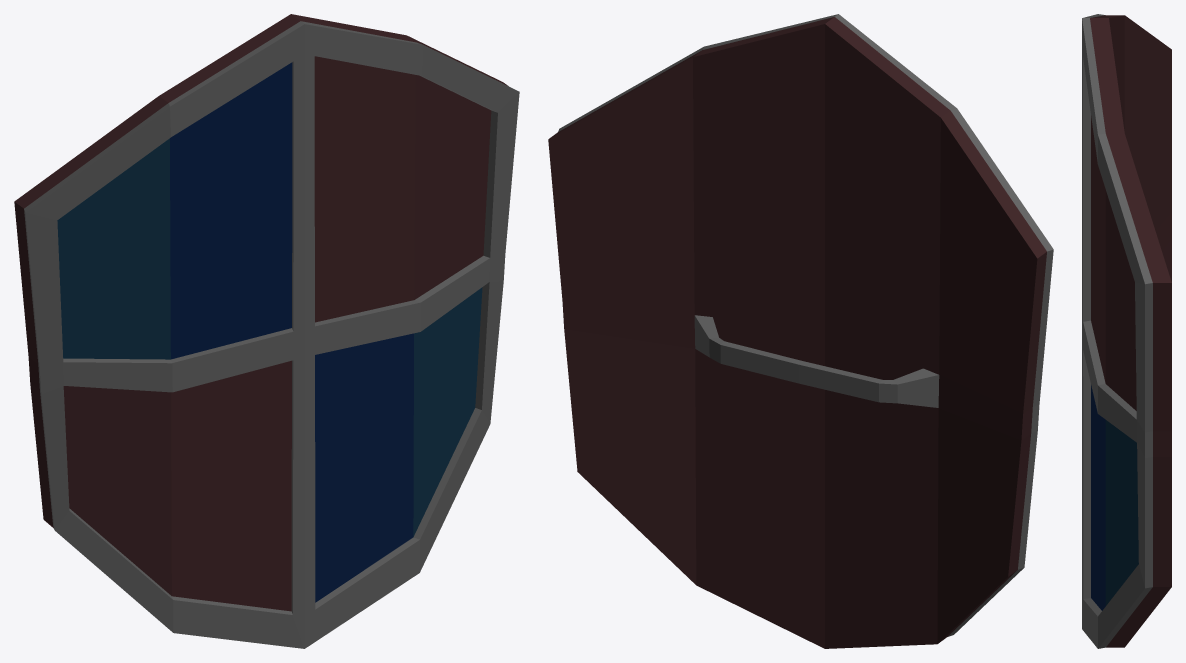
File: wooden_shield.glb
3 views of the same model, side by side, from view 1: azimuth 30°, elevation 25°; view 2: azimuth 150°, elevation 25°; view 3: azimuth 270°, elevation 25° (orthographic). The views are drawn at different scales.
Visible parts, largest first — view 1: shield; view 2: shield; view 3: shield.
Part boxes in pixels (box(x1,y1,x2,y2)): shield: box(14, 14, 519, 648); shield: box(548, 14, 1053, 648); shield: box(1082, 14, 1171, 648).
Bounding box in the file's own units: 0.6621 × 0.7999 × 0.1065.
1 material, 1 textured.
